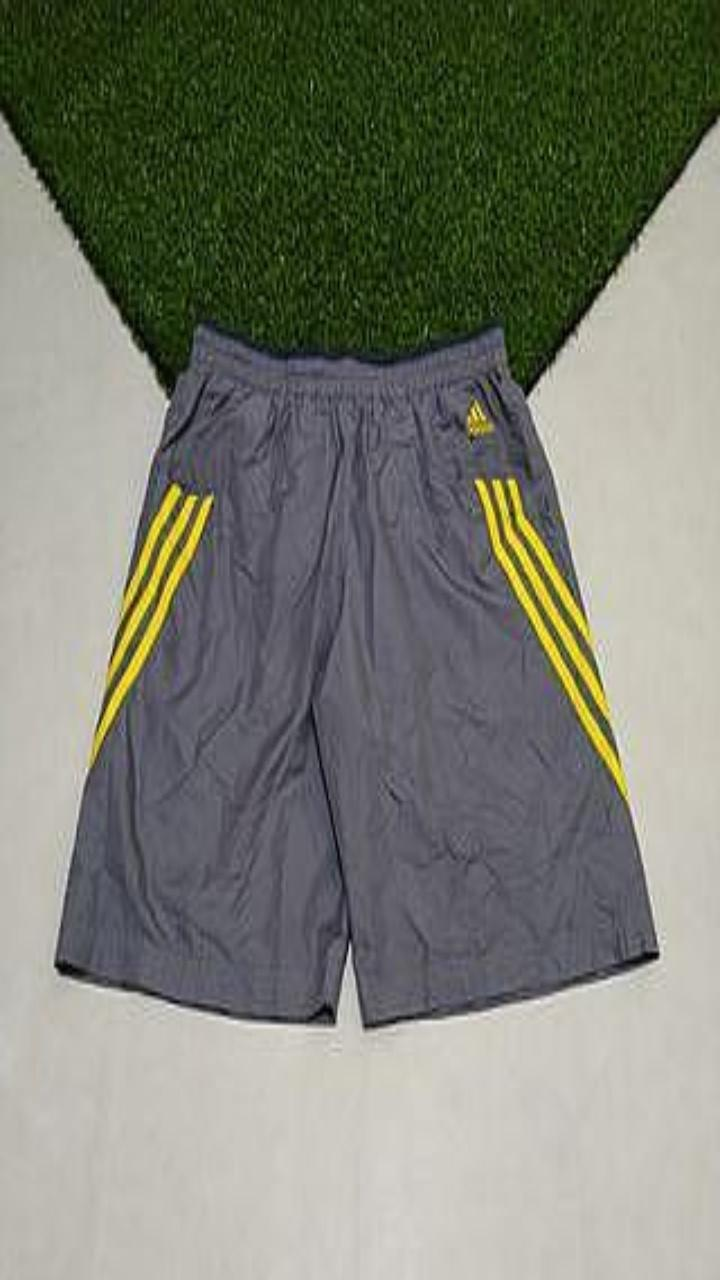Shorts: (55, 323, 658, 1026)
